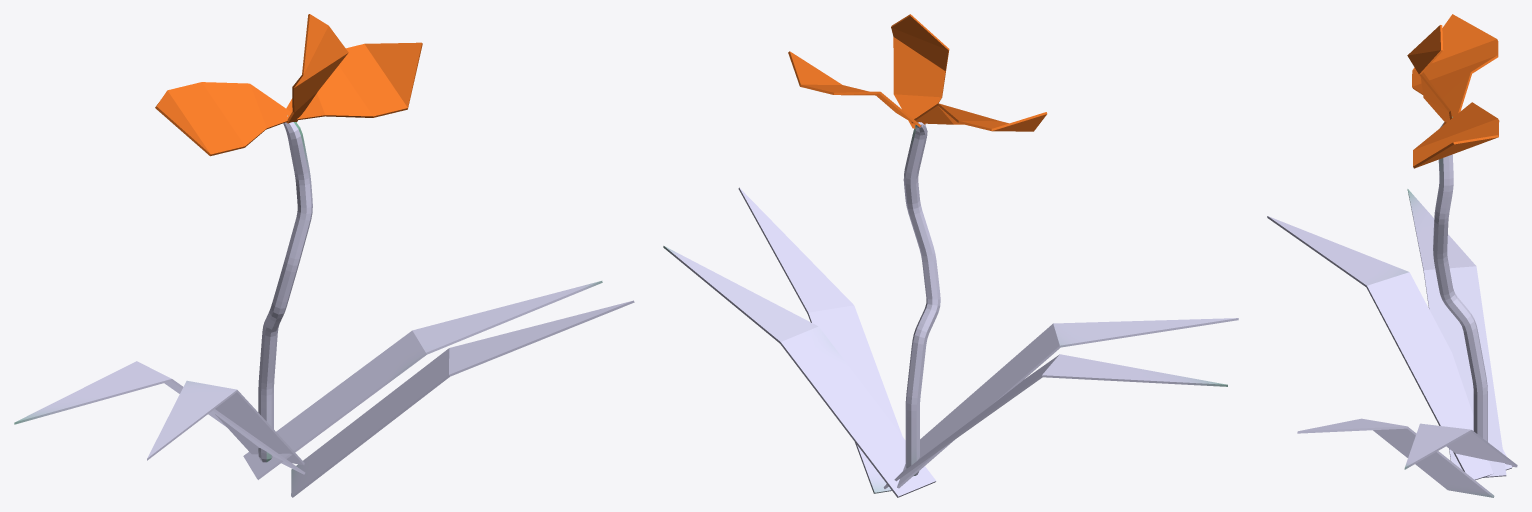
File: Flower.obj
3 renders of one model, left to right at view 1: azimuth 30°, elevation 25°; view 2: azimuth 150°, elevation 25°; view 3: azimuth 270°, elevation 25°, orthographic. The views are drawn at different scales.
Parts seen in each view (by area): view 1: Plane_Plane.010; view 2: Plane_Plane.010; view 3: Plane_Plane.010.
Boxes of the visible parts, x1,y1,x2,y2 form: Plane_Plane.010: (14,14,634,497); Plane_Plane.010: (663,14,1238,497); Plane_Plane.010: (1267,14,1517,497).
Bounding box in the file's own units: 2.81 × 2.21 × 1.06.
